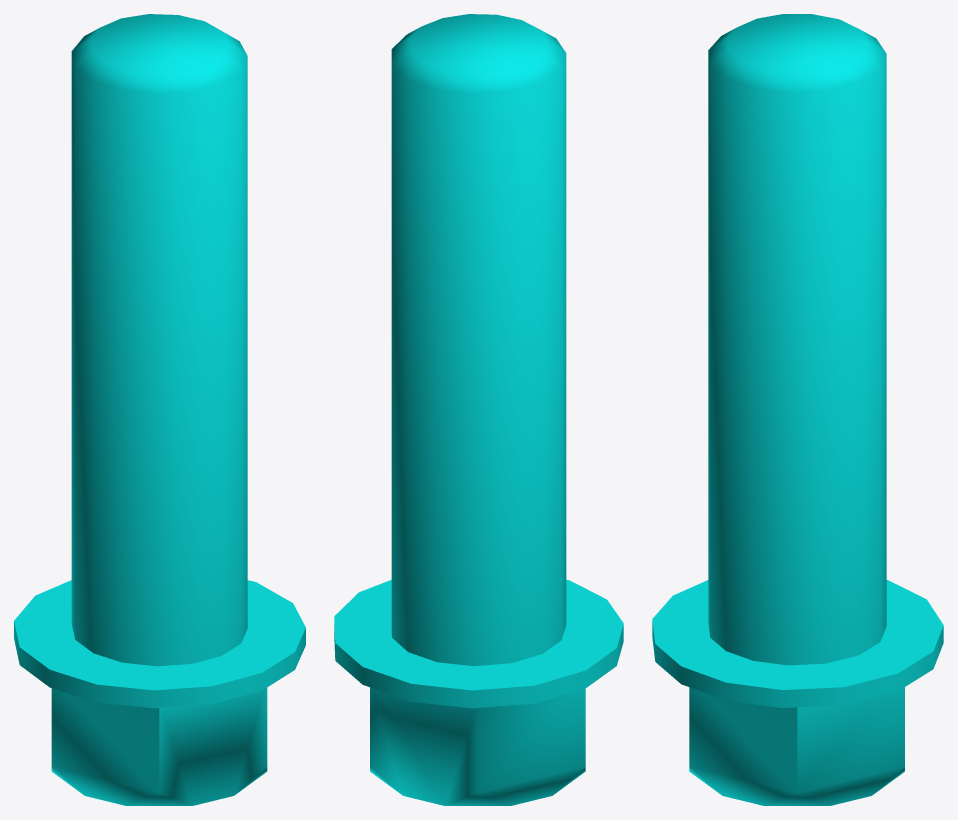
3 renders of one model, left to right at view 1: azimuth 30°, elevation 25°; view 2: azimuth 150°, elevation 25°; view 3: azimuth 270°, elevation 25°, orthographic.
Visible parts, largest first — view 1: tr014_022; view 2: tr014_022; view 3: tr014_022.
Boxes of the visible parts, left/top/right/bottom form: tr014_022: left=14, top=14, right=305, bottom=805; tr014_022: left=334, top=14, right=623, bottom=805; tr014_022: left=652, top=14, right=943, bottom=805.
Size of the model in its own units: 2.05 by 5.61 by 2.06.
